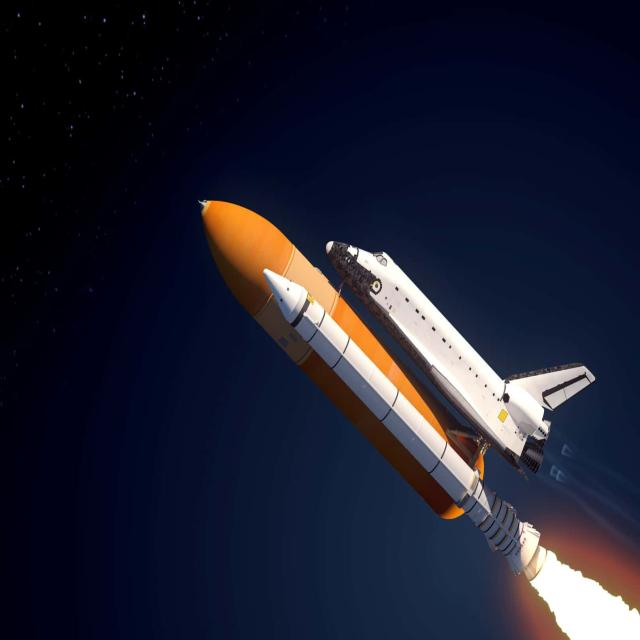rocket: (322, 228, 606, 481)
